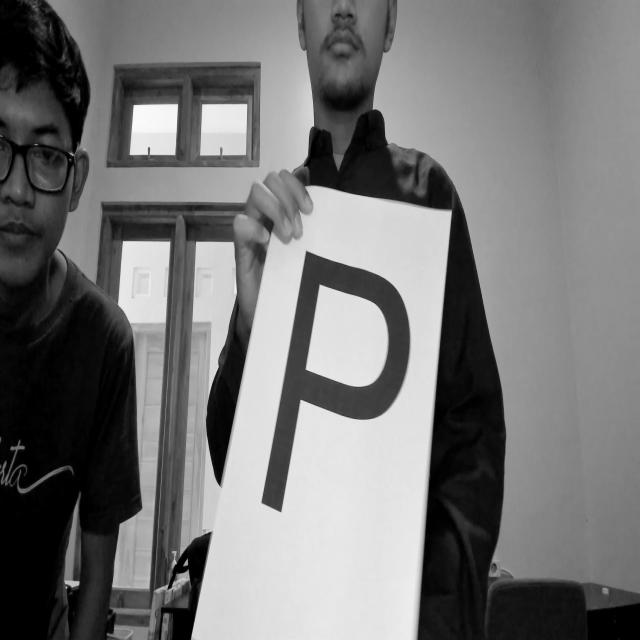p: (247, 241, 423, 535)
